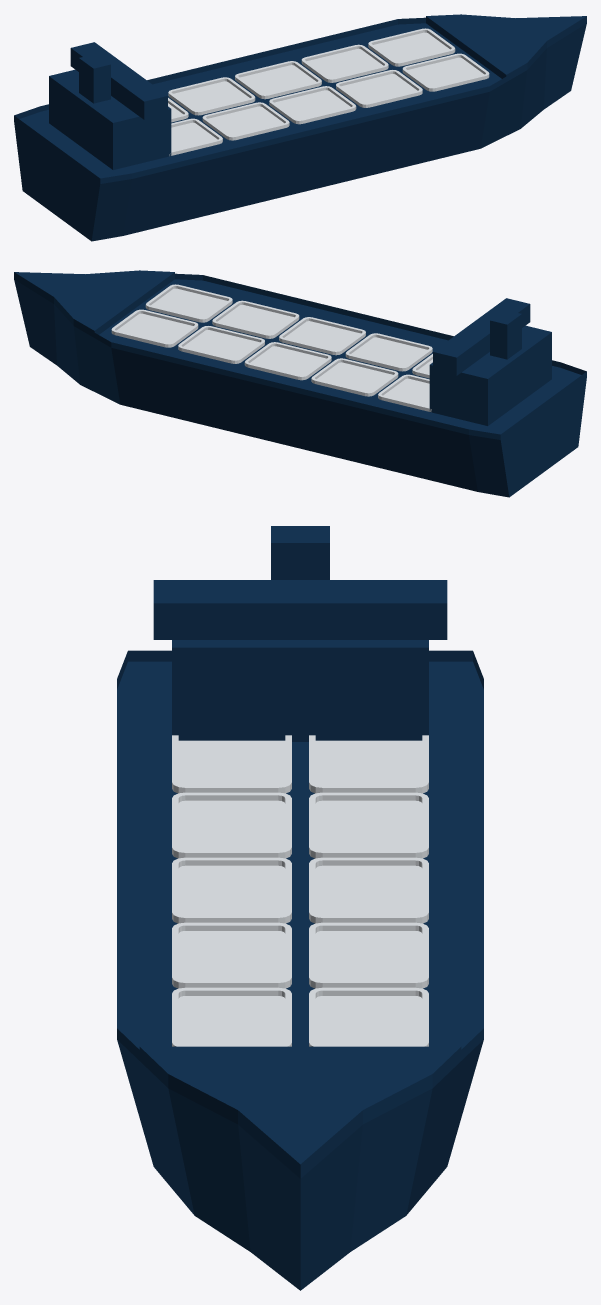
Rendered from vessel-tank-10.glb.
3 views of the same model, one above another, from view 1: azimuth 30°, elevation 25°; view 2: azimuth 150°, elevation 25°; view 3: azimuth 270°, elevation 25° (orthographic). The views are drawn at different scales.
Parts seen in each view (by area): view 1: hull, superstructure, detail_forecastle, detail_bulwark, tank_01p, tank_04p, tank_04s, tank_01s, tank_02p, tank_03s, tank_02s, tank_03p (+2 smaller); view 2: hull, superstructure, detail_forecastle, detail_bulwark, tank_01s, tank_04s, tank_04p, tank_01p, tank_02s, tank_03p, tank_02p, tank_03s (+2 smaller); view 3: hull, superstructure, detail_forecastle, tank_04p, tank_04s, tank_02p, tank_02s, tank_03p, tank_03s, tank_01p, tank_01s, tank_05p (+3 smaller).
Part boxes in pixels (x1,y1,x2,y2): hull: (14, 23, 586, 241); superstructure: (49, 42, 171, 169); detail_forecastle: (426, 14, 586, 81); detail_bulwark: (14, 17, 586, 183); tank_01p: (368, 28, 455, 66); tank_04p: (168, 77, 255, 115); tank_04s: (202, 102, 289, 140); tank_01s: (402, 53, 489, 91); tank_02p: (301, 44, 388, 82); tank_03s: (269, 86, 356, 124); tank_02s: (336, 70, 422, 107); tank_03p: (235, 61, 321, 99); hull: (14, 279, 586, 497); superstructure: (429, 298, 551, 425); detail_forecastle: (14, 270, 174, 337); detail_bulwark: (14, 273, 586, 439); tank_01s: (145, 284, 232, 322); tank_04s: (345, 333, 432, 371); tank_04p: (311, 358, 398, 396); tank_01p: (111, 309, 198, 347); tank_02s: (212, 300, 299, 338); tank_03p: (244, 342, 331, 380); tank_02p: (178, 326, 264, 363); tank_03s: (279, 317, 365, 355); hull: (117, 661, 483, 1290); superstructure: (153, 580, 447, 741); detail_forecastle: (139, 1046, 461, 1176); tank_04p: (309, 792, 428, 858); tank_04s: (172, 792, 291, 858); tank_02p: (309, 922, 428, 988); tank_02s: (172, 922, 291, 988); tank_03p: (309, 857, 428, 923); tank_03s: (172, 857, 291, 923); tank_01p: (309, 987, 428, 1046); tank_01s: (172, 987, 291, 1046); tank_05p: (309, 735, 428, 793).
Bounding box in the file's own units: 10 × 2.63 × 3.
